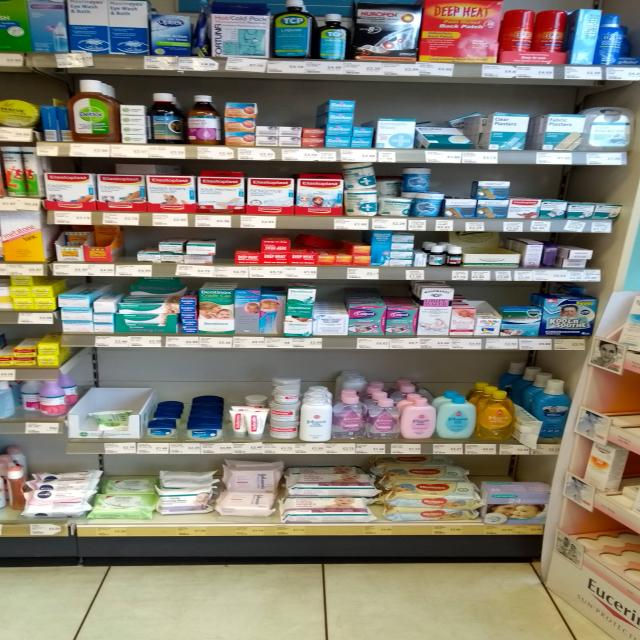unorganised: (145, 87, 185, 144), (218, 486, 275, 519), (418, 122, 473, 149), (39, 105, 70, 145), (341, 161, 380, 190), (191, 8, 212, 59), (286, 289, 317, 317), (404, 167, 435, 192), (563, 247, 595, 271), (18, 380, 37, 419), (301, 237, 340, 250), (378, 180, 401, 197)
